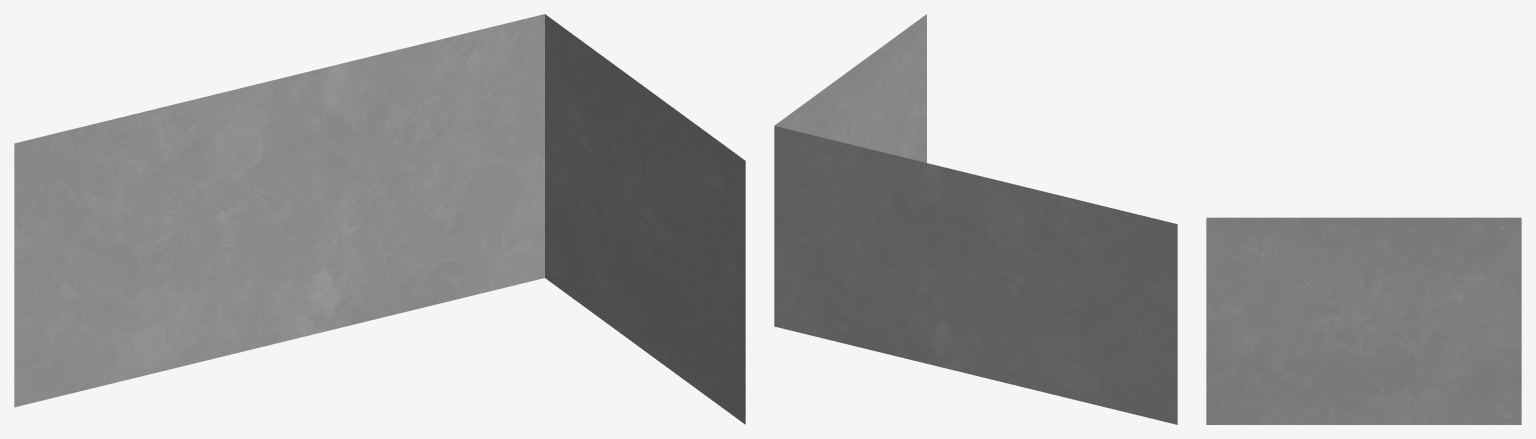
The model's file is bedroom_wall.fbx.
3 views of the same model, side by side, from view 1: azimuth 30°, elevation 25°; view 2: azimuth 150°, elevation 25°; view 3: azimuth 270°, elevation 25° (orthographic). The views are drawn at different scales.
Visible parts, largest first — view 1: pPlane5; view 2: pPlane5; view 3: pPlane5.
Boxes of the visible parts, x1=… form: pPlane5: x1=14, y1=14, x2=745, y2=424; pPlane5: x1=774, y1=14, x2=1177, y2=424; pPlane5: x1=1206, y1=217, x2=1521, y2=424.
Bounding box in the file's own units: 1730 × 822 × 1134.
Materials: 1 (1 with a texture image).
